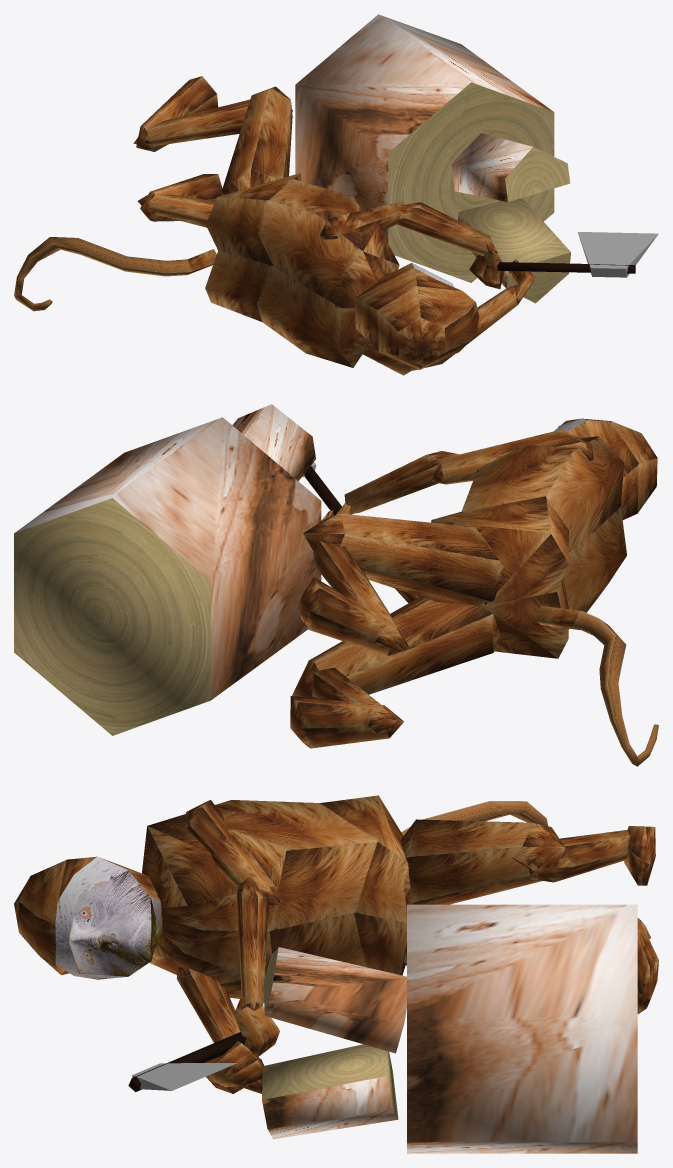
The model's file is monkey_000503.obj.
3 views of the same model, one above another, from view 1: azimuth 30°, elevation 25°; view 2: azimuth 150°, elevation 25°; view 3: azimuth 270°, elevation 25° (orthographic). The views are drawn at different scales.
Visible parts, largest first — view 1: table_Cylinder.015, Cylinder_Cylinder.001, head.002_Sphere.002, log2_Cylinder.016, log_Cylinder.017, Cylinder.001_Cylinder.002, Cylinder.013_Cylinder, axe_Cylinder.014, Cylinder.004_Cylinder.005, Cylinder.009_Cylinder.011, Cylinder.006_Cylinder.007, Cylinder.008_Cylinder.009 (+5 smaller); view 2: table_Cylinder.015, Cylinder_Cylinder.001, Cylinder.001_Cylinder.002, Cylinder.002_Cylinder.003, Cylinder.006_Cylinder.007, Cylinder.005_Cylinder.006, Cylinder.013_Cylinder, head.002_Sphere.002, log2_Cylinder.016, Cylinder.004_Cylinder.005, Cylinder.009_Cylinder.011, Cylinder.008_Cylinder.009 (+2 smaller); view 3: table_Cylinder.015, Cylinder_Cylinder.001, head.002_Sphere.002, Cylinder.001_Cylinder.002, log2_Cylinder.016, log_Cylinder.017, Cylinder.008_Cylinder.009, Cylinder.009_Cylinder.011, Cylinder.004_Cylinder.005, axe_Cylinder.014, Cylinder.011_Cylinder.013, Cylinder.013_Cylinder (+4 smaller).
Boxes of the visible parts, x1=… form: table_Cylinder.015: x1=295, y1=14, x2=554, y2=282; Cylinder_Cylinder.001: x1=205, y1=173, x2=399, y2=367; head.002_Sphere.002: x1=355, y1=263, x2=479, y2=369; log2_Cylinder.016: x1=451, y1=133, x2=570, y2=201; log_Cylinder.017: x1=458, y1=198, x2=570, y2=303; Cylinder.001_Cylinder.002: x1=221, y1=86, x2=292, y2=195; Cylinder.013_Cylinder: x1=14, y1=237, x2=216, y2=311; axe_Cylinder.014: x1=497, y1=232, x2=658, y2=277; Cylinder.004_Cylinder.005: x1=133, y1=99, x2=292, y2=146; Cylinder.009_Cylinder.011: x1=396, y1=202, x2=492, y2=256; Cylinder.006_Cylinder.007: x1=136, y1=76, x2=218, y2=151; Cylinder.008_Cylinder.009: x1=319, y1=201, x2=404, y2=239; table_Cylinder.015: x1=14, y1=417, x2=321, y2=735; Cylinder_Cylinder.001: x1=431, y1=436, x2=626, y2=658; Cylinder.001_Cylinder.002: x1=303, y1=513, x2=505, y2=605; Cylinder.002_Cylinder.003: x1=292, y1=596, x2=500, y2=698; Cylinder.006_Cylinder.007: x1=298, y1=577, x2=409, y2=655; Cylinder.005_Cylinder.006: x1=290, y1=696, x2=403, y2=748; Cylinder.013_Cylinder: x1=536, y1=605, x2=658, y2=766; head.002_Sphere.002: x1=554, y1=418, x2=657, y2=519; log2_Cylinder.016: x1=232, y1=404, x2=315, y2=481; Cylinder.004_Cylinder.005: x1=313, y1=541, x2=404, y2=650; Cylinder.009_Cylinder.011: x1=344, y1=451, x2=459, y2=513; Cylinder.008_Cylinder.009: x1=431, y1=429, x2=593, y2=484; table_Cylinder.015: x1=407, y1=904, x2=637, y2=1153; Cylinder_Cylinder.001: x1=142, y1=795, x2=413, y2=1002; head.002_Sphere.002: x1=14, y1=856, x2=162, y2=979; Cylinder.001_Cylinder.002: x1=400, y1=819, x2=565, y2=904; log2_Cylinder.016: x1=263, y1=947, x2=406, y2=1053; log_Cylinder.017: x1=262, y1=1044, x2=398, y2=1139; Cylinder.008_Cylinder.009: x1=186, y1=800, x2=280, y2=906; Cylinder.009_Cylinder.011: x1=236, y1=876, x2=268, y2=1010; Cylinder.004_Cylinder.005: x1=512, y1=830, x2=629, y2=882; axe_Cylinder.014: x1=128, y1=1032, x2=246, y2=1091; Cylinder.011_Cylinder.013: x1=176, y1=967, x2=262, y2=1093; Cylinder.013_Cylinder: x1=401, y1=801, x2=548, y2=835.
Size of the model in its own units: 2.14 by 0.8867 by 1.94.
